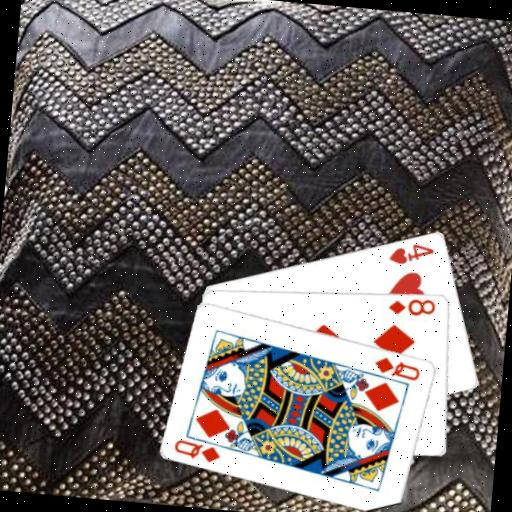4H: (386, 238, 437, 269)
8D: (386, 293, 439, 319)
QD: (371, 353, 424, 383), (171, 435, 224, 465)
